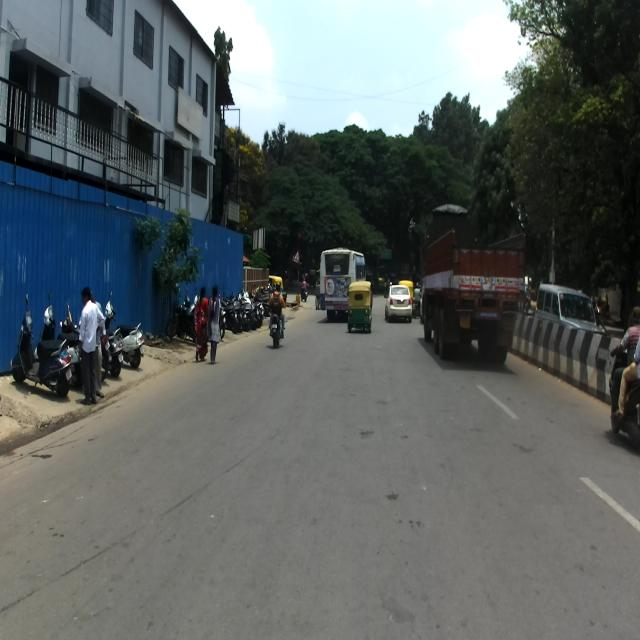auto ahead at: (348, 281, 371, 334)
motorcycle ahead at: (12, 289, 74, 397)
person ahead at: (80, 287, 106, 411)
truck ahead at: (414, 212, 524, 370)
